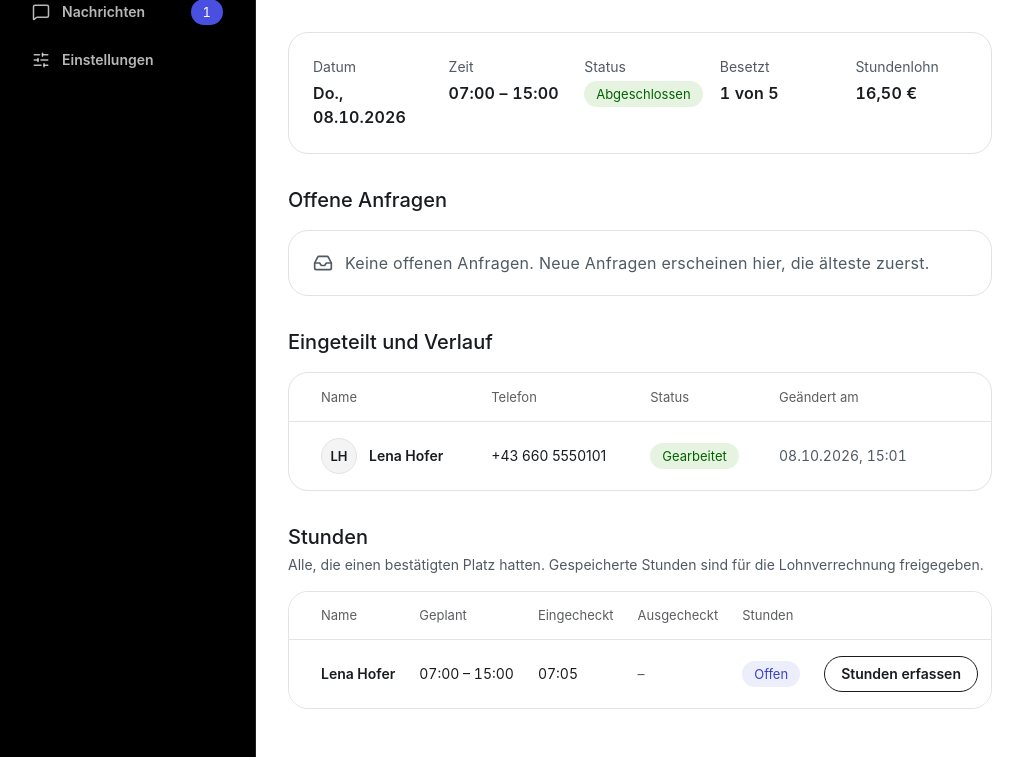
Test: hours on the shift detail page › prefills the planned times where check-in or check-out is missing
The width and height of the screenshot is (1024, 757).
(page scrolled)
Click the button with aria-label "Stunden von Lena Hofer erfassen" at (901, 674), box [824,656,978,692]
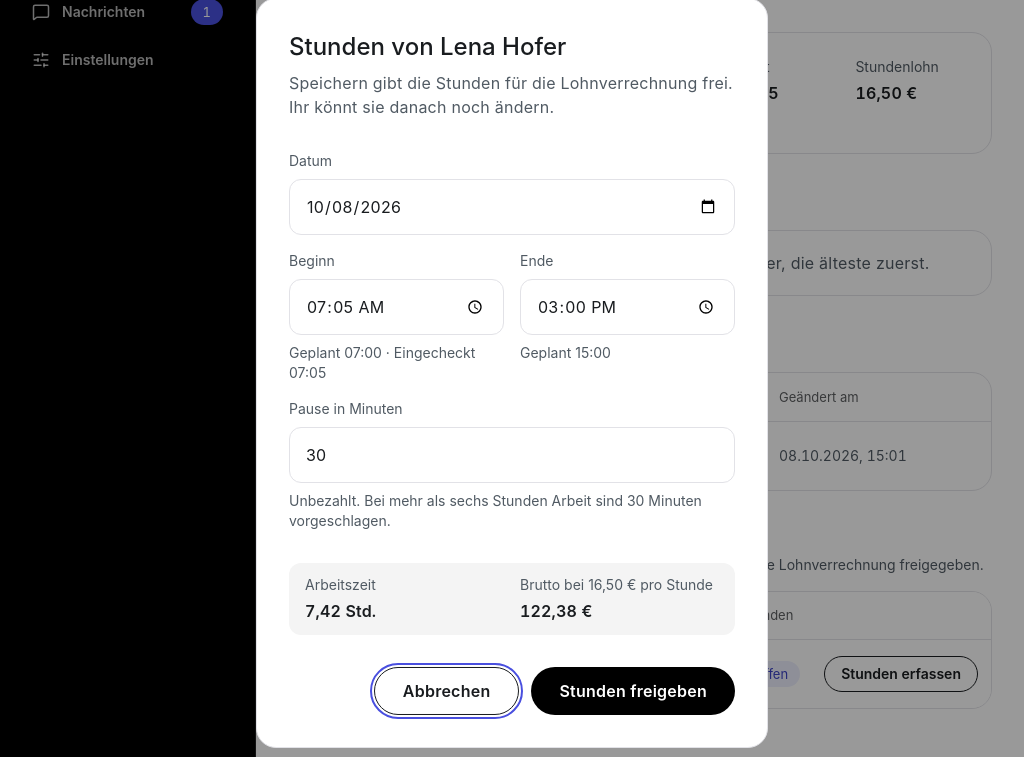
Expected: the time field labelled "Beginn" holds "07:05", [289,279,504,335]
Expected: the time field labelled "Ende" holds "15:00", [520,279,735,335]
Expected: the number field labelled "Pause in Minuten" holds "30", [289,427,735,483]
